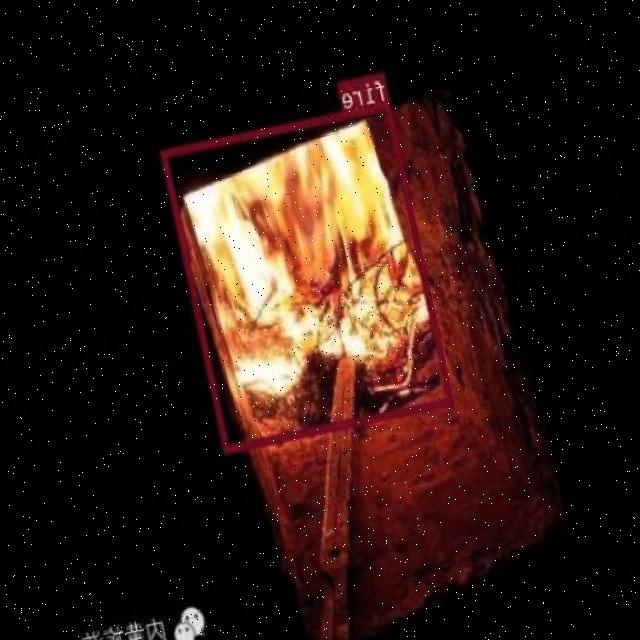fire: (160, 99, 454, 452)
